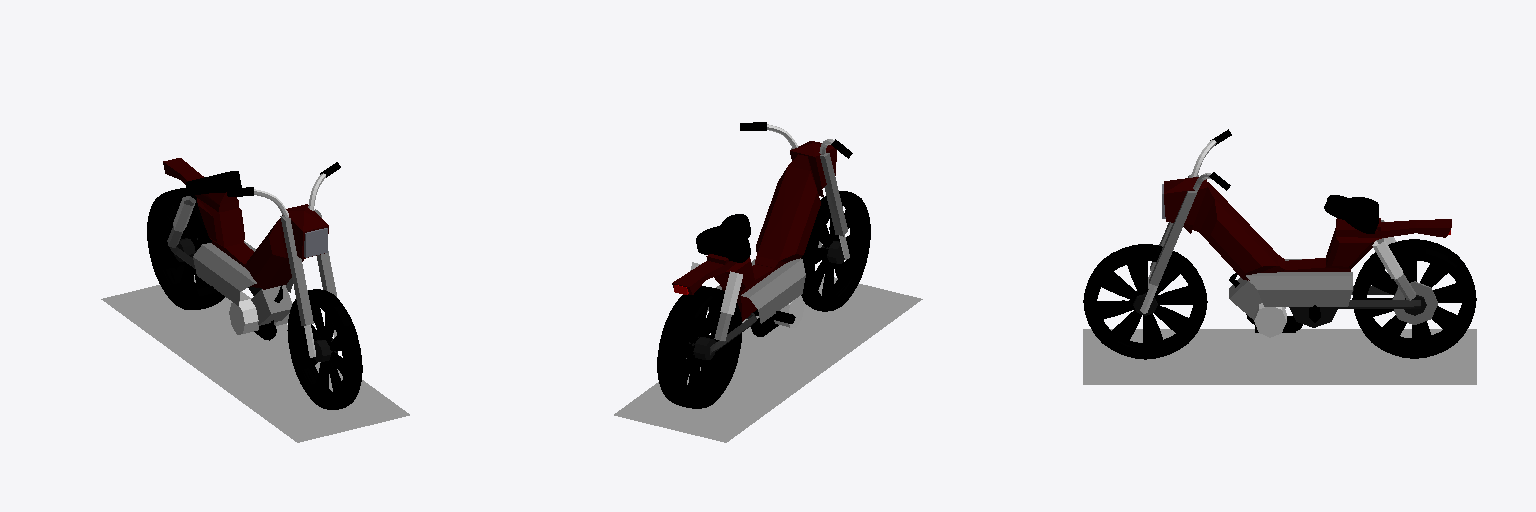
Rendered from Moto.obj.
3 renders of one model, left to right at view 1: azimuth 30°, elevation 25°; view 2: azimuth 150°, elevation 25°; view 3: azimuth 270°, elevation 25°, orthographic.
Visible parts, largest first — view 1: ground_1, roue_avant_2, cadre_7, roue_arriere_3, carter_droit_17, fouche_d_5, cylindre_9, phare_6, selle_23, allumage_10, sweethome3d_phare_glace_31, fourche_g_4; view 2: ground_1, roue_arriere_3, cadre_7, roue_avant_2, carter_droit_17, selle_23, fouche_d_5, phare_6, amortisseur_haut_1_28; view 3: ground_1, roue_avant_2, roue_arriere_3, cadre_7, carter_gauche_16, selle_23, phare_6, fourche_g_4, couronne_22, vario_14, cylindre_9, bras_oscillant_8 (+2 smaller).
Boxes of the visible parts, x1=… form: ground_1: x1=101, y1=276, x2=409, y2=442; roue_avant_2: x1=287, y1=289, x2=362, y2=409; cadre_7: x1=163, y1=158, x2=308, y2=289; roue_arriere_3: x1=147, y1=188, x2=224, y2=309; carter_droit_17: x1=193, y1=243, x2=256, y2=305; fouche_d_5: x1=280, y1=216, x2=313, y2=325; cylindre_9: x1=251, y1=285, x2=292, y2=325; phare_6: x1=282, y1=204, x2=328, y2=258; selle_23: x1=186, y1=171, x2=241, y2=194; allumage_10: x1=229, y1=299, x2=258, y2=334; sweethome3d_phare_glace_31: x1=304, y1=228, x2=327, y2=257; fourche_g_4: x1=314, y1=209, x2=336, y2=296; ground_1: x1=614, y1=275, x2=922, y2=442; roue_arriere_3: x1=657, y1=286, x2=741, y2=408; cadre_7: x1=672, y1=154, x2=820, y2=321; roue_avant_2: x1=801, y1=191, x2=870, y2=311; carter_droit_17: x1=741, y1=258, x2=805, y2=323; selle_23: x1=696, y1=214, x2=750, y2=262; fouche_d_5: x1=820, y1=153, x2=847, y2=236; phare_6: x1=790, y1=141, x2=836, y2=196; amortisseur_haut_1_28: x1=720, y1=271, x2=742, y2=314; ground_1: x1=1083, y1=329, x2=1476, y2=384; roue_avant_2: x1=1083, y1=244, x2=1207, y2=359; roue_arriere_3: x1=1352, y1=239, x2=1476, y2=358; cadre_7: x1=1192, y1=182, x2=1451, y2=280; carter_gauche_16: x1=1246, y1=272, x2=1352, y2=306; selle_23: x1=1324, y1=195, x2=1378, y2=233; phare_6: x1=1164, y1=177, x2=1206, y2=233; fourche_g_4: x1=1149, y1=191, x2=1196, y2=285; couronne_22: x1=1392, y1=281, x2=1437, y2=324; vario_14: x1=1254, y1=303, x2=1286, y2=337; cylindre_9: x1=1229, y1=277, x2=1261, y2=319; bras_oscillant_8: x1=1338, y1=286, x2=1420, y2=308.
Size of the model in its own units: 56.7 by 96.5 by 170.